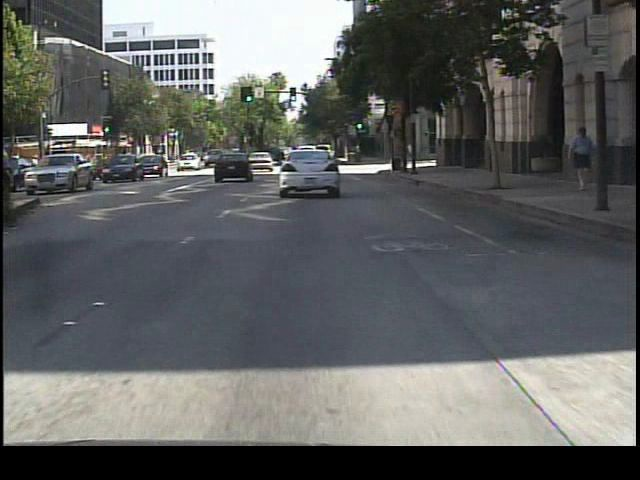person: (565, 123, 593, 196)
